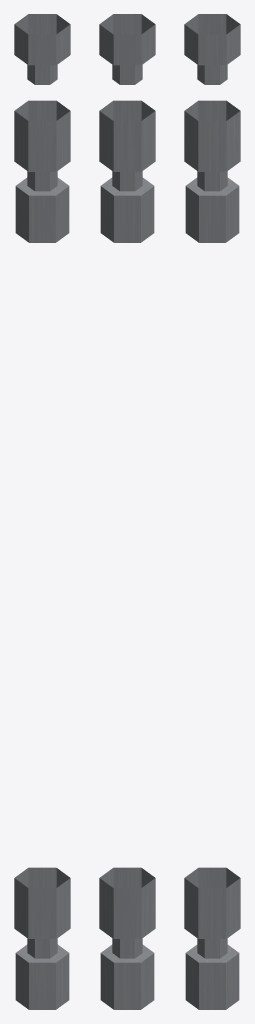
The model's file is GFRIEND_05.glb.
3 renders of one model, left to right at view 1: azimuth 30°, elevation 25°; view 2: azimuth 150°, elevation 25°; view 3: azimuth 330°, elevation 25°, orthographic.
Bounding box in the file's own units: 0.00575 × 0.1275 × 0.00664.
Materials: 1 (1 with a texture image).
